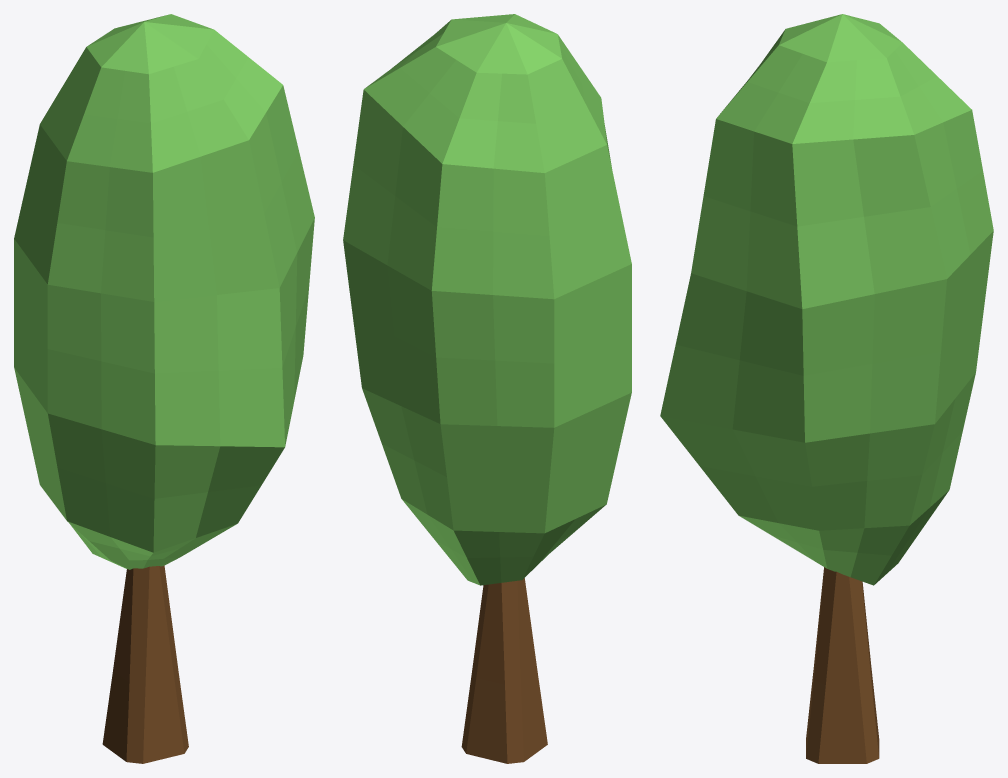
The model's file is Tree 4.fbx.
3 views of the same model, side by side, from view 1: azimuth 30°, elevation 25°; view 2: azimuth 150°, elevation 25°; view 3: azimuth 270°, elevation 25° (orthographic).
Visible parts, largest first — view 1: Cube.003; view 2: Cube.003; view 3: Cube.003.
Part boxes in pixels (box(x1,y1,x2,y2)): Cube.003: box(14, 14, 314, 763); Cube.003: box(343, 14, 631, 763); Cube.003: box(660, 14, 993, 763).
Bounding box in the file's own units: 224 × 592 × 244.
